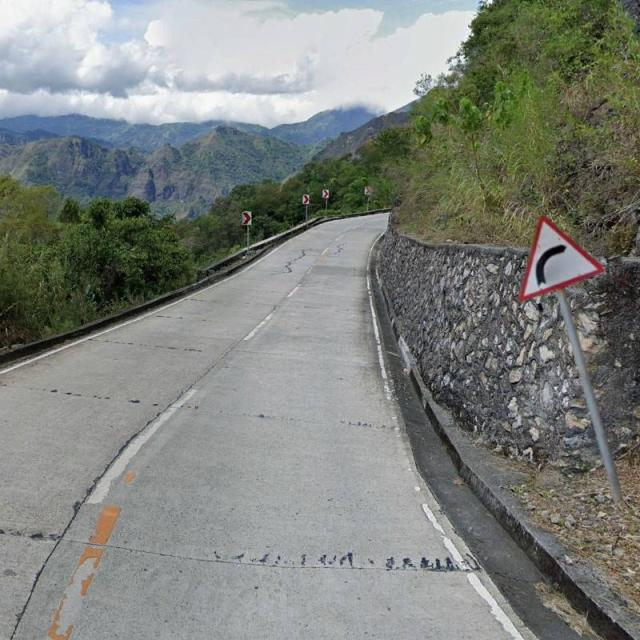warn_right_curve: (519, 216, 606, 302)
